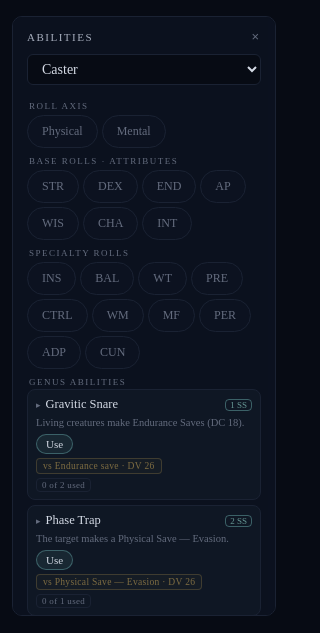
Test case: usage limits › still spends every activation when the same control is used twice
This screenshot has width=320, height=633.
Step 1. Click the 1st button "Use" → [55, 444], box [36,434,73,454]
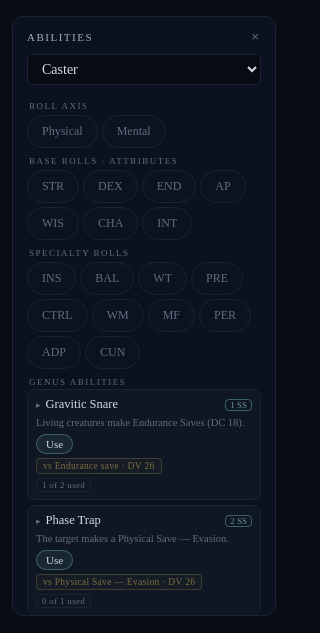
Step 2. Click the 1st button "Use" → [55, 444], box [36,434,73,454]
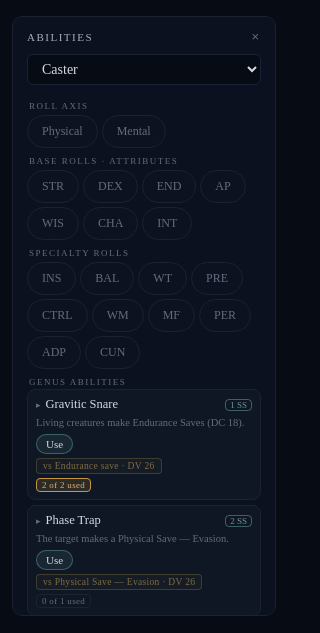
Now the element showing "2 of 2 used" is shown, box [36,478,91,492]
